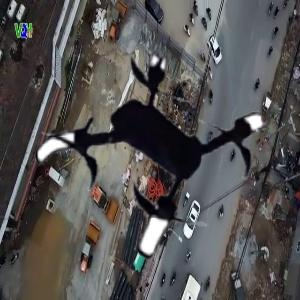drone: (32, 43, 268, 279)
